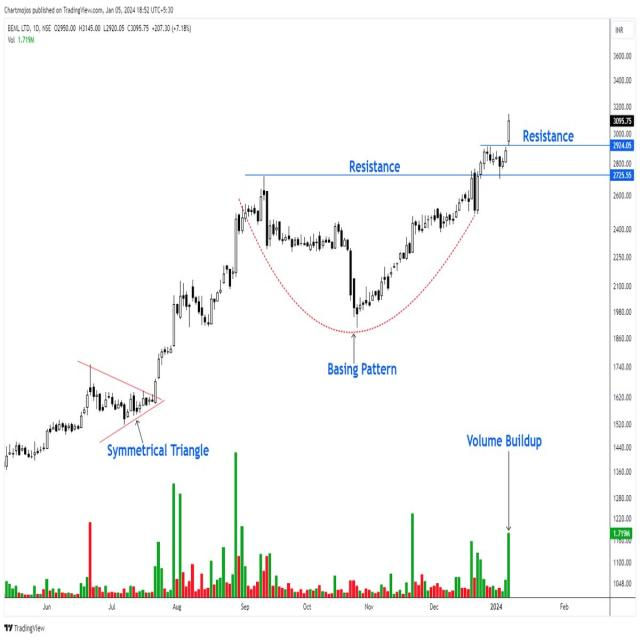Cup-and-handle: (239, 128, 513, 322)
Triangle: (46, 352, 164, 470)
